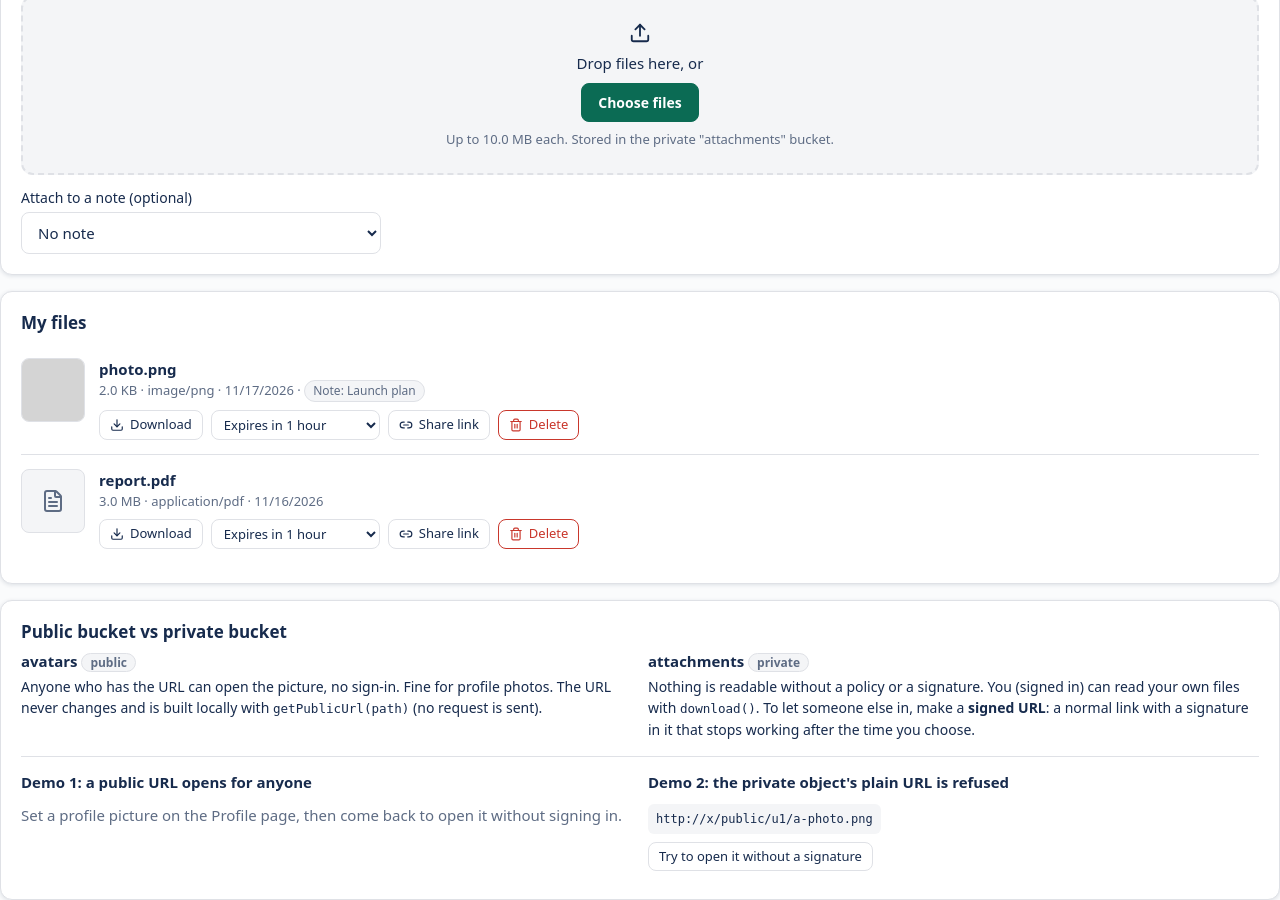
Test: public vs private panel › says a private object is refused without a signature
(page scrolled)
Click the button "Try to open it without a signature" at (760, 857), box [648,842,873,871]
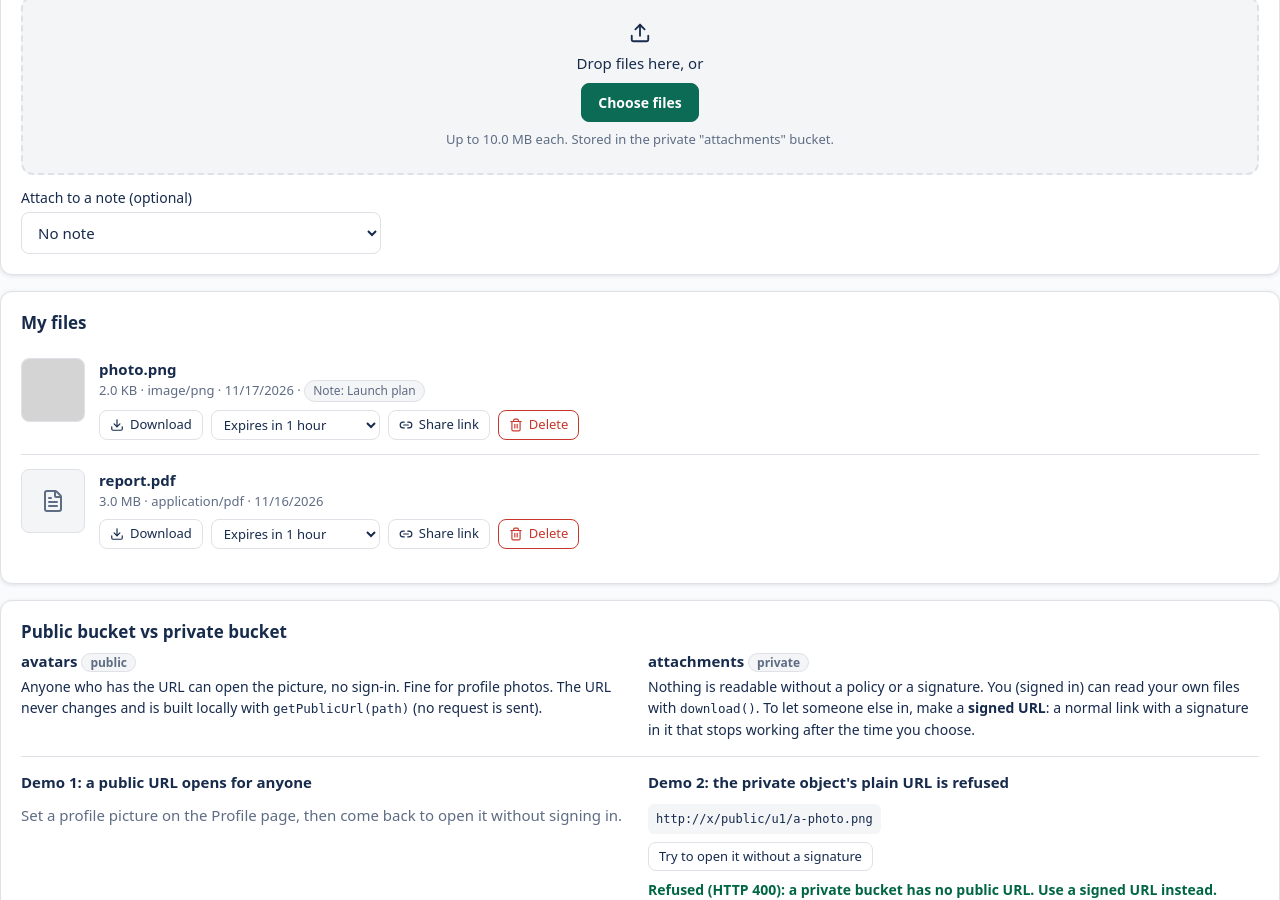
Expected: the text "http://x/public/u1/a-photo.png" is shown, [648,804,881,834]
Now the text with test id "private-result" shows "Refused (HTTP 400)", box [648,880,1217,899]
